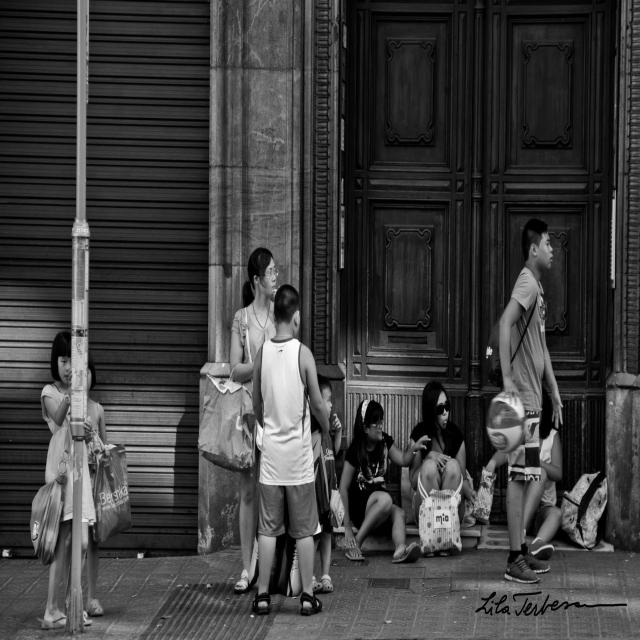body: (481, 214, 567, 588), (248, 280, 331, 621), (28, 328, 93, 630), (228, 246, 276, 592), (337, 396, 432, 568), (481, 382, 564, 562), (61, 345, 110, 622), (405, 378, 479, 561), (310, 372, 343, 594)
